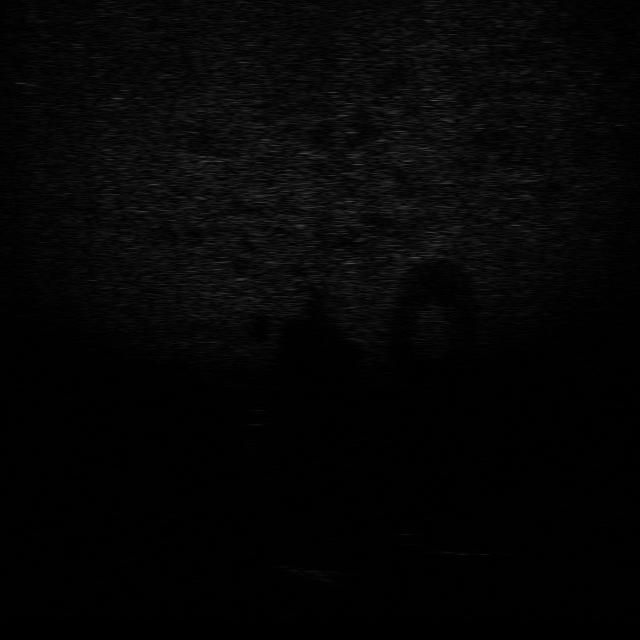ball: (238, 404, 272, 428)
metal bucket: (268, 558, 356, 588)
tyre: (392, 520, 492, 560)
